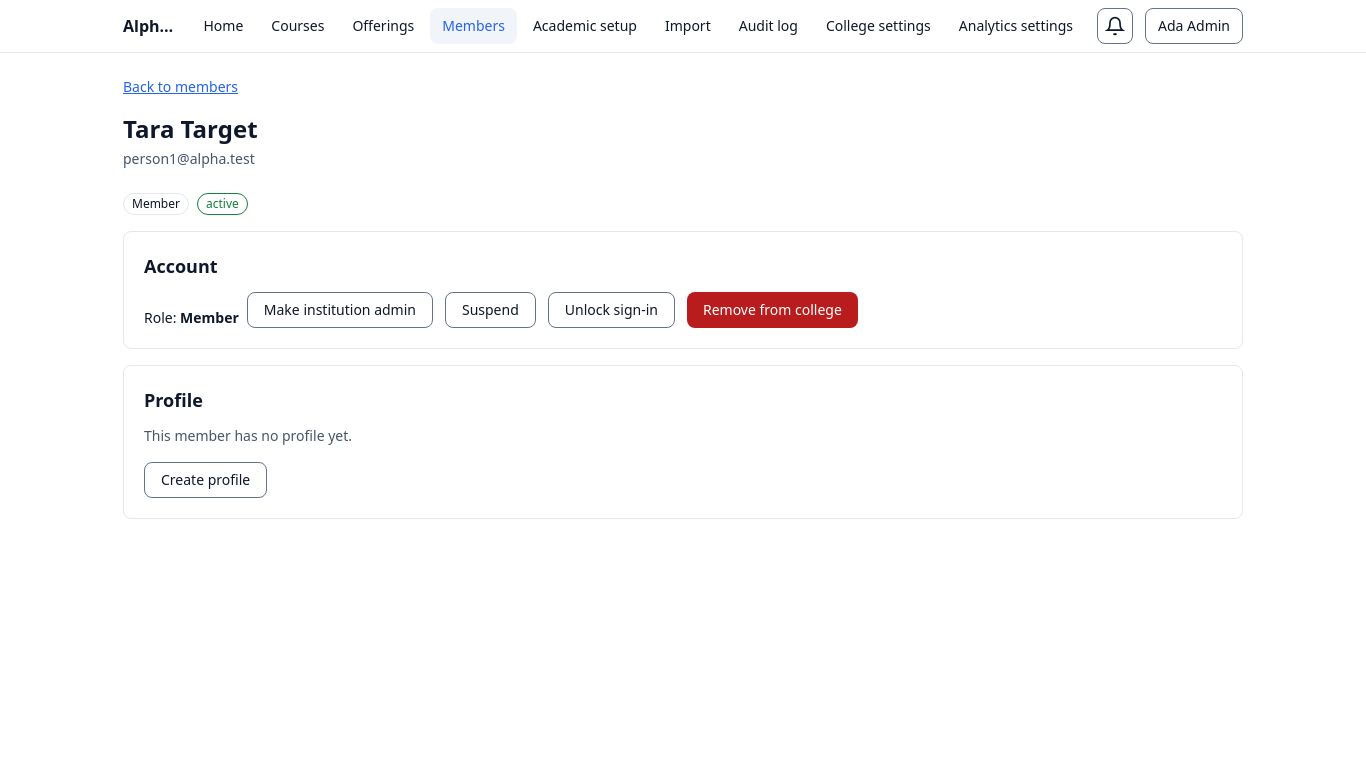
Test: step-up › opens over the confirm dialog, and the refused request is sent again after the code
The image size is (1366, 768).
Click the button "Suspend" at (490, 310), box [445,292,536,328]
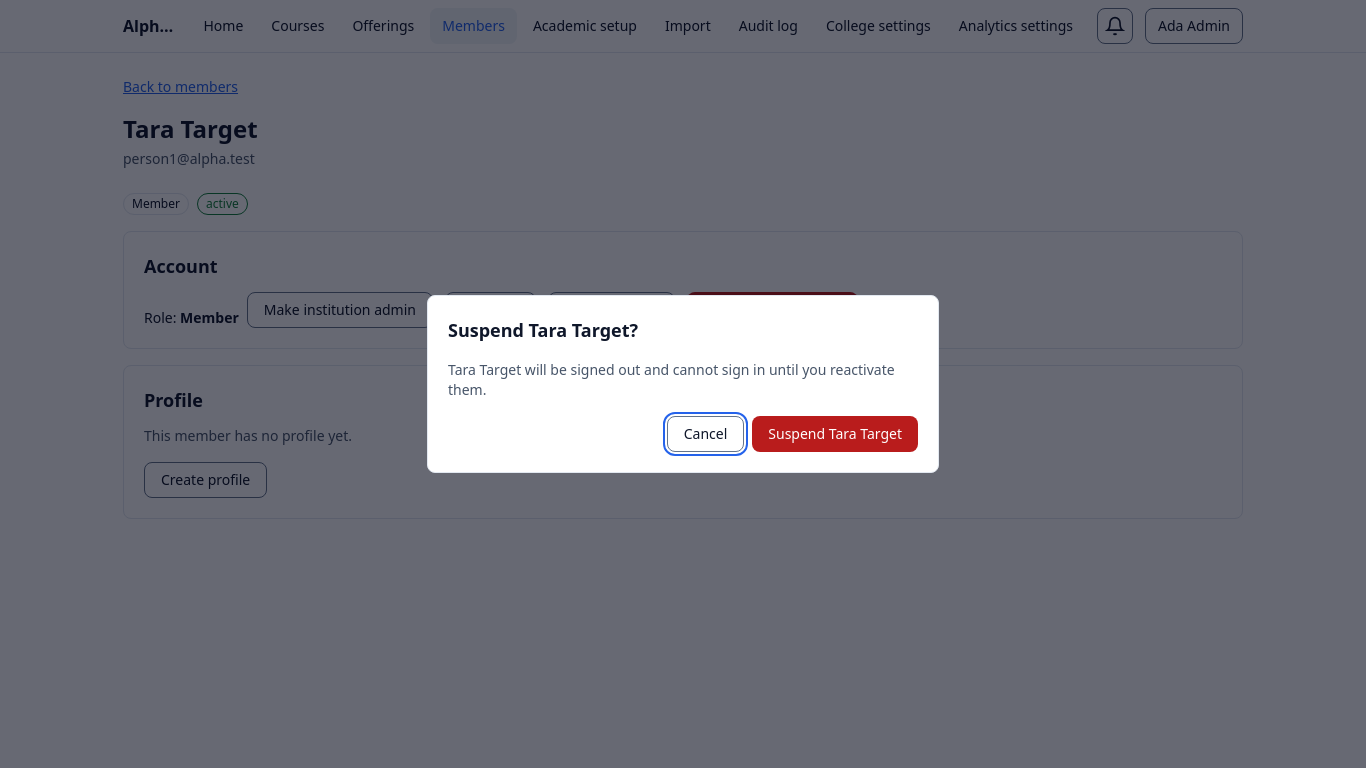
Click the button "Suspend Tara Target" at (835, 434), box [752,416,918,452]
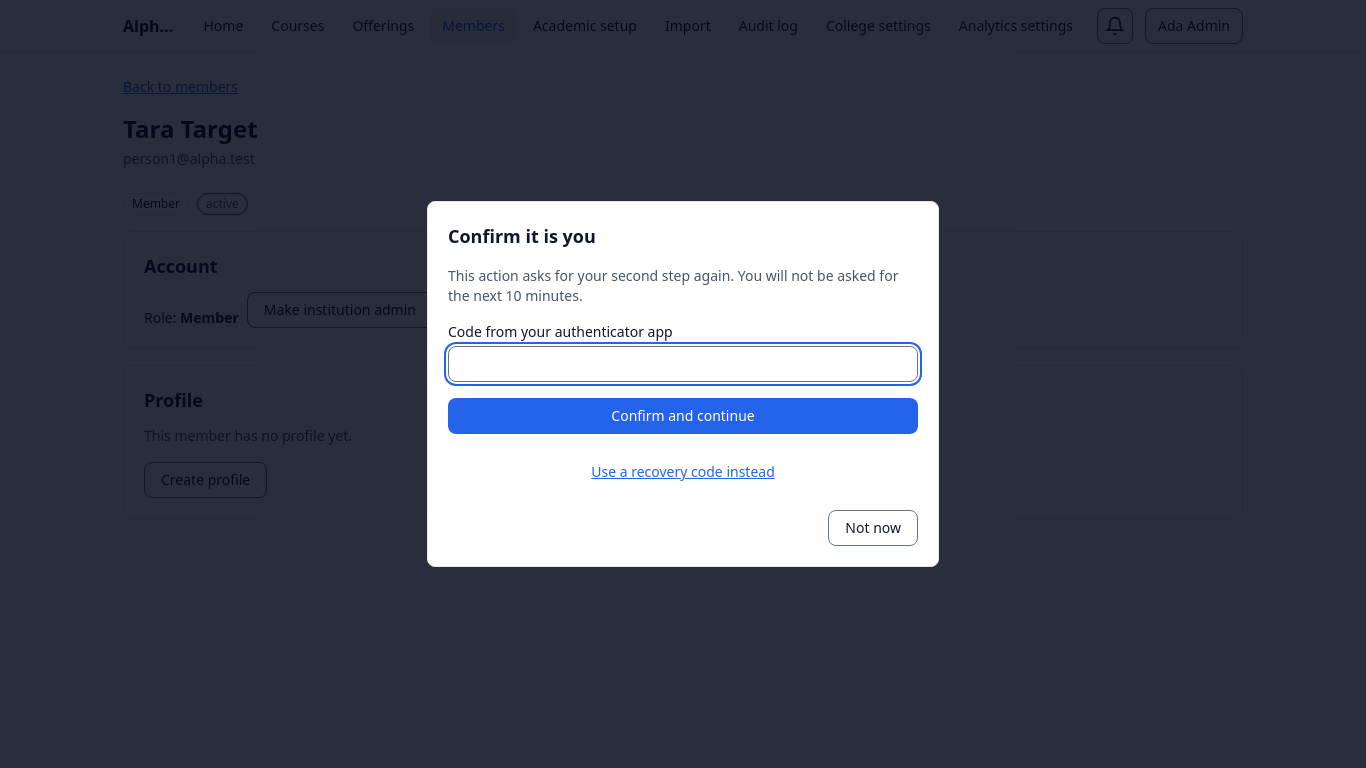
Type "000000" into the field labelled "Code from your authenticator app" at (683, 364), box [448,346,918,382]
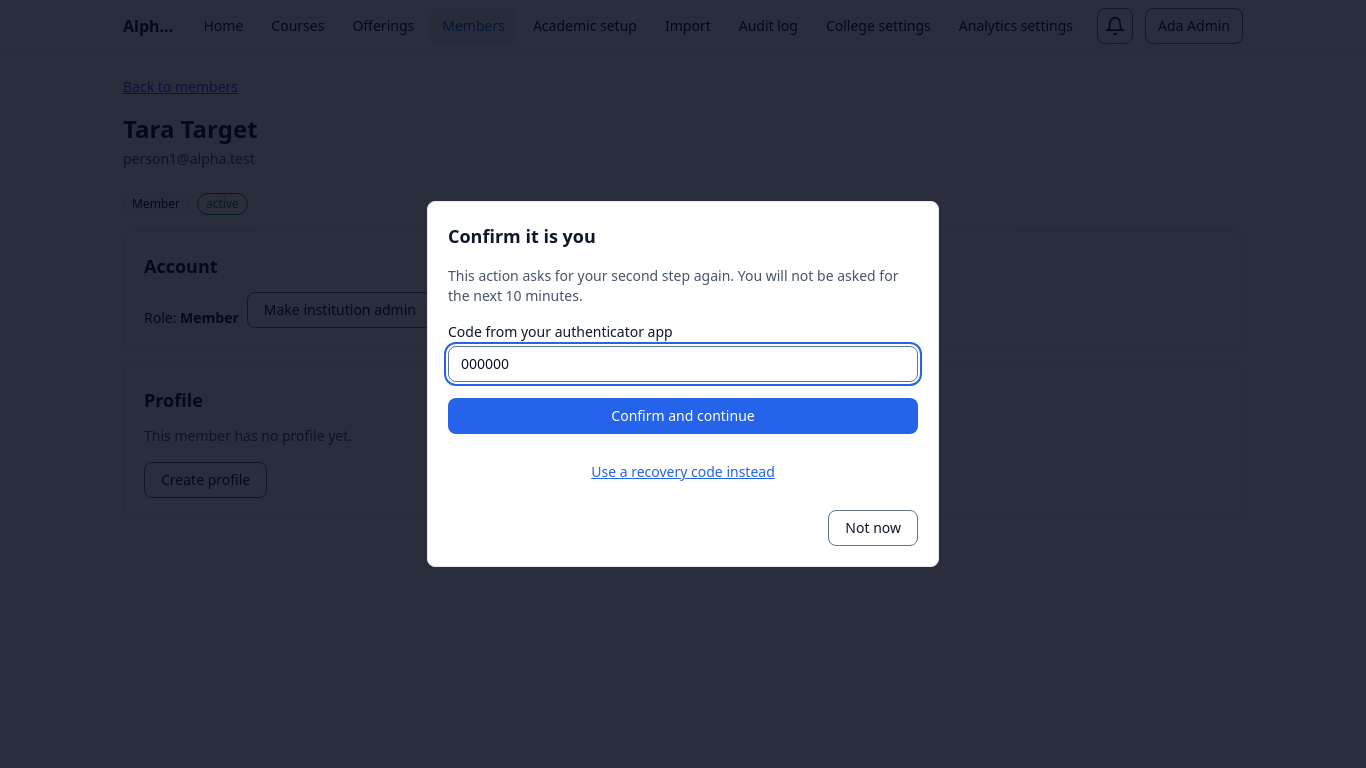
Click the button "Confirm and continue" at (683, 416), box [448,398,918,434]
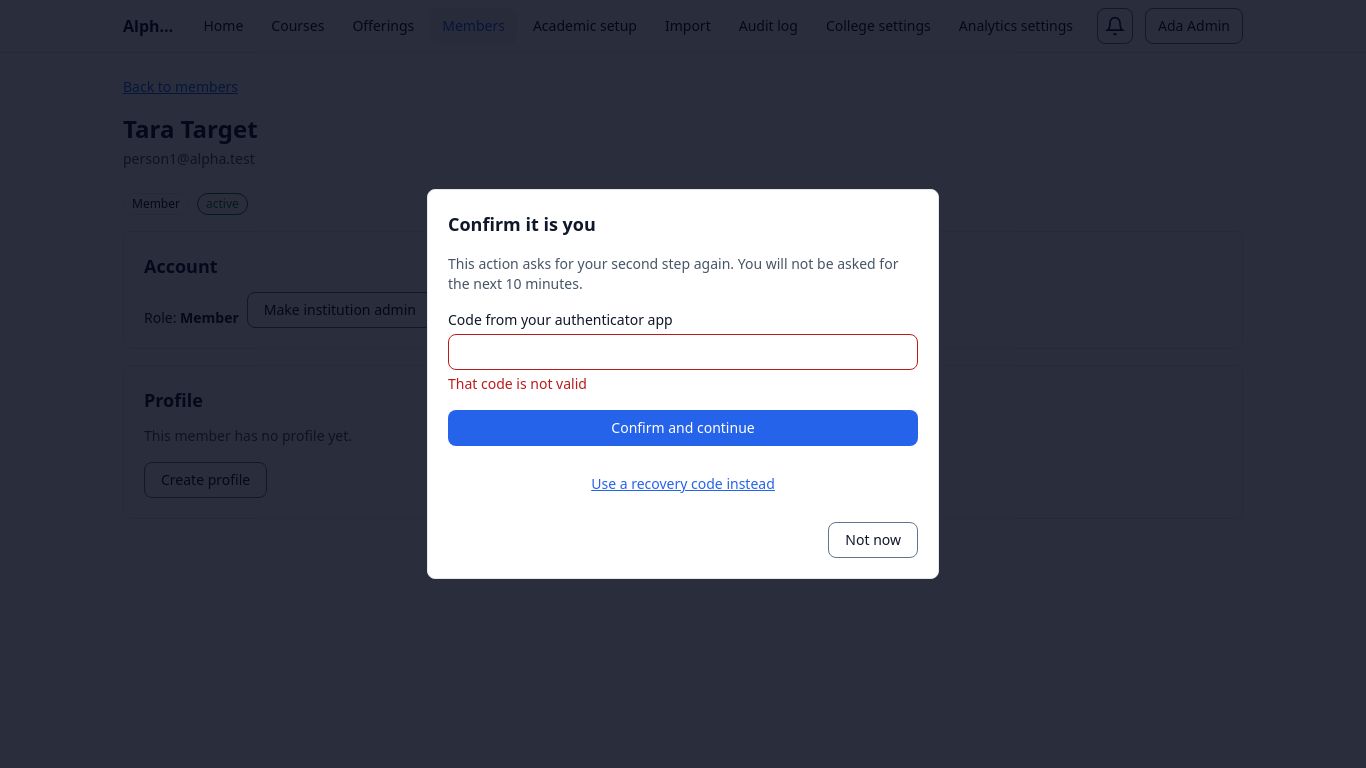
Expected: the text "That code is not valid" is shown, [448,374,587,393]
Type "123456" into the field labelled "Code from your authenticator app" at (683, 352), box [448,334,918,370]
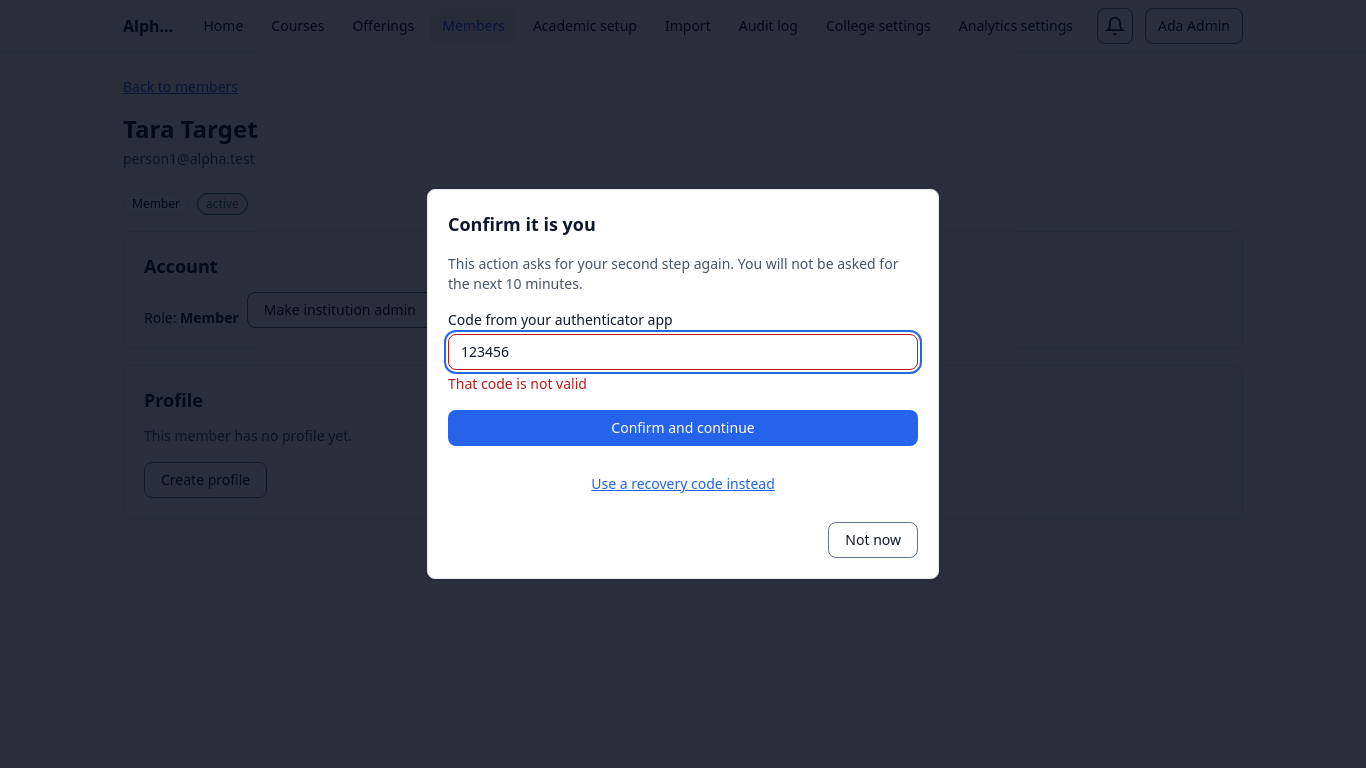
Click the button "Confirm and continue" at (683, 428), box [448,410,918,446]
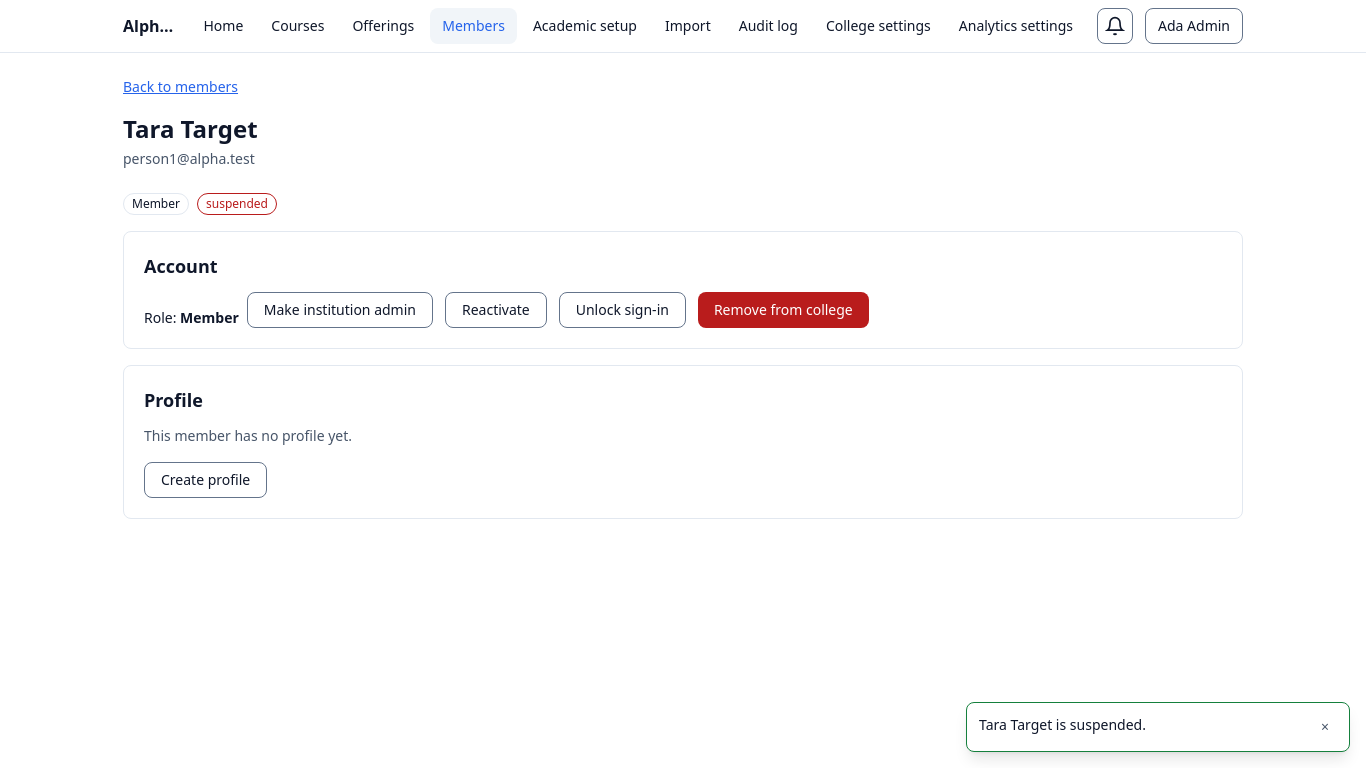
Expected: the heading "Confirm it is you" is gone
